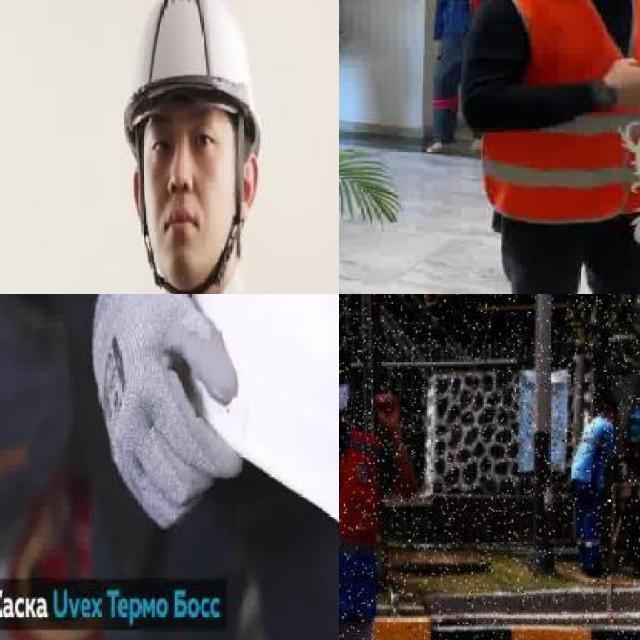apron: (92, 294, 244, 530)
